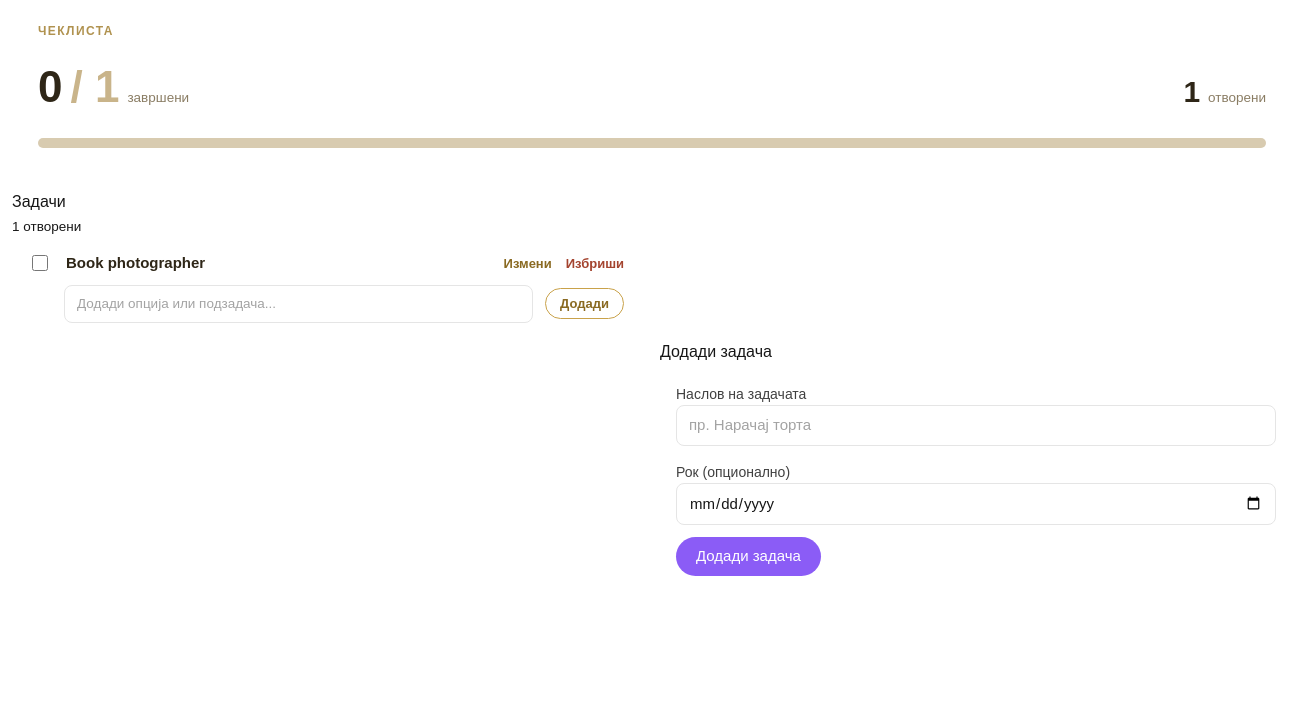
Scenario: ChecklistClient › renders the stat tile and tasks, and adds a new task
Expected: the text "Book photographer" is shown, top-left (66, 252), bottom-right (205, 274)
Expected: the text "1 отворени" is shown, top-left (12, 219), bottom-right (81, 234)
In the field labelled "Наслов на задачата": coordinates (976, 425) top-left (676, 405), bottom-right (1276, 446), type "Send invitations"
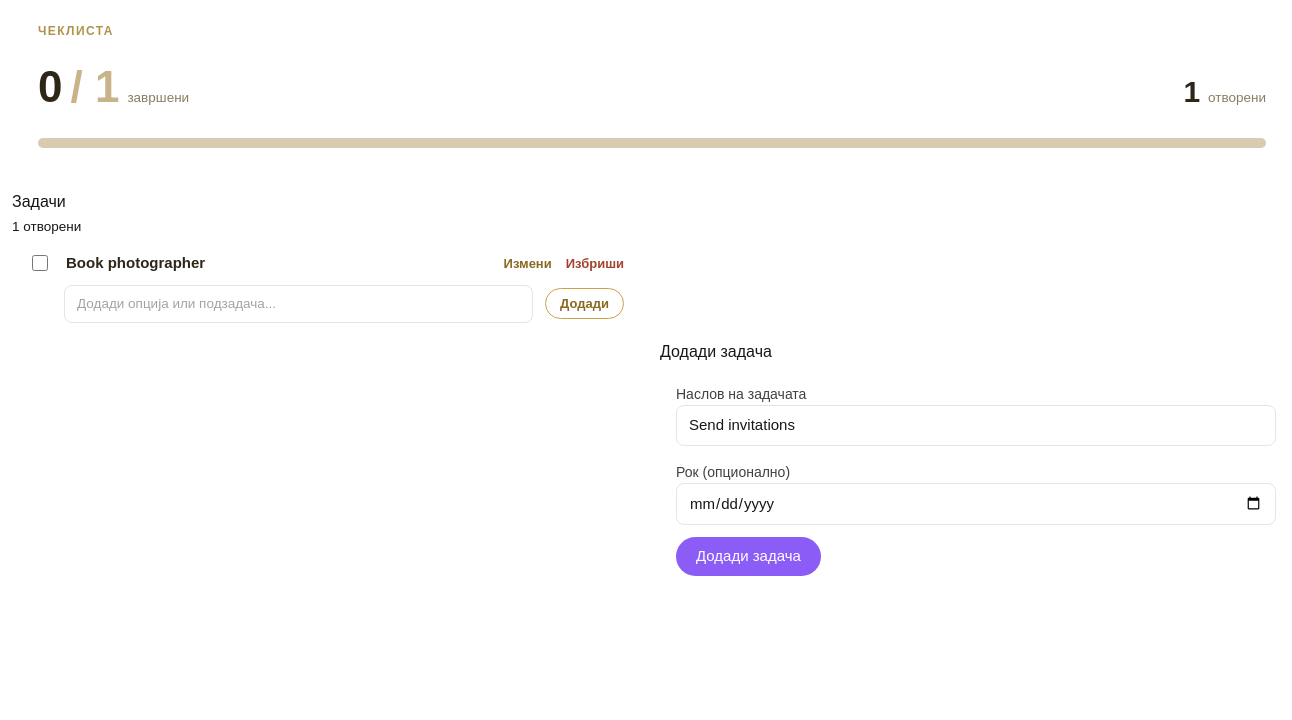
Click the button "Додади задача": coordinates (748, 556) top-left (676, 537), bottom-right (821, 576)
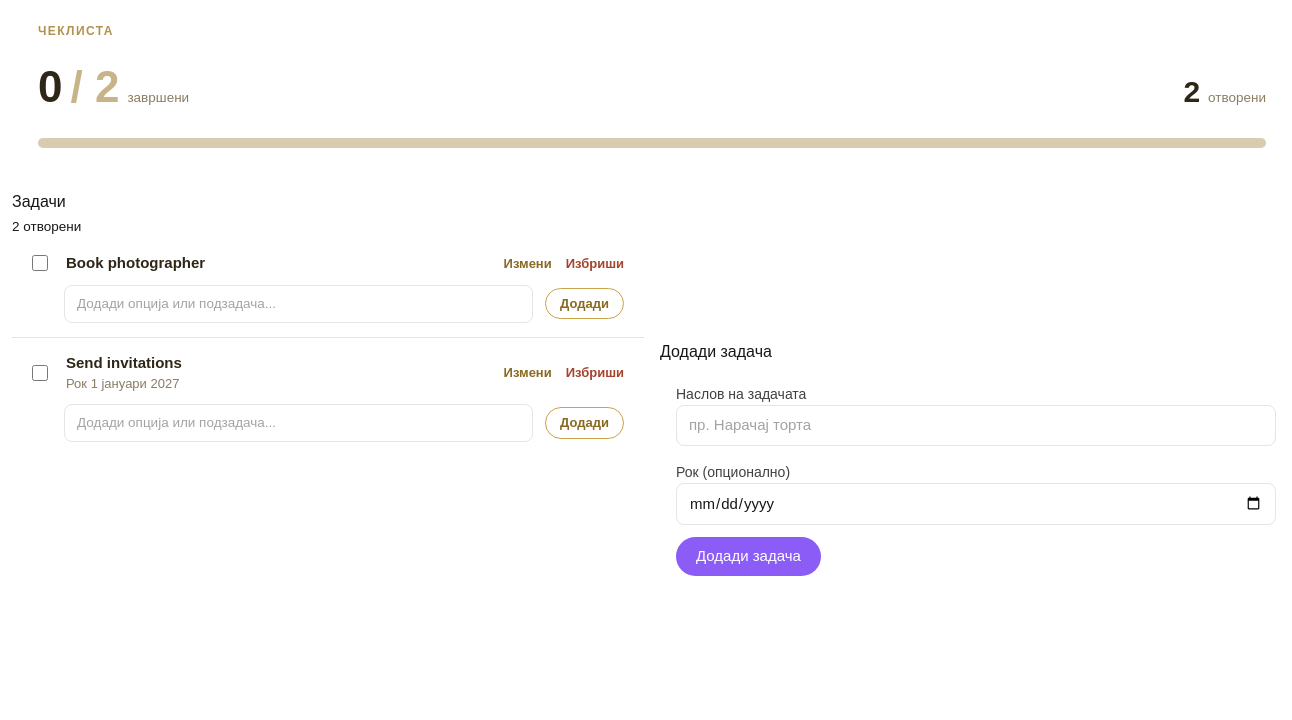
Result: the text "Send invitations" is shown at top-left (66, 352), bottom-right (182, 374)
